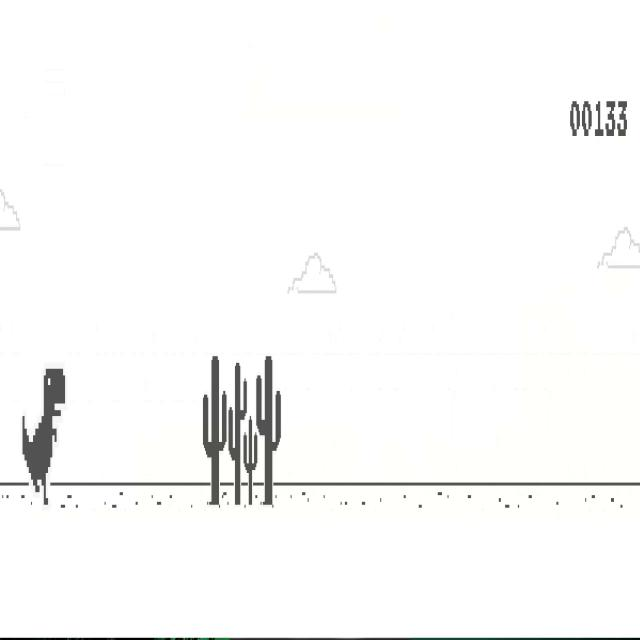cacto: (256, 355, 282, 506), (202, 355, 227, 506), (228, 362, 247, 506), (243, 416, 258, 506)
dino: (23, 366, 66, 506)
